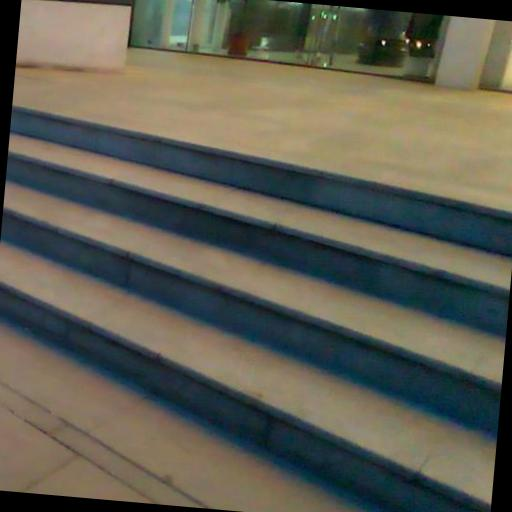stairs: (0, 109, 511, 511)
